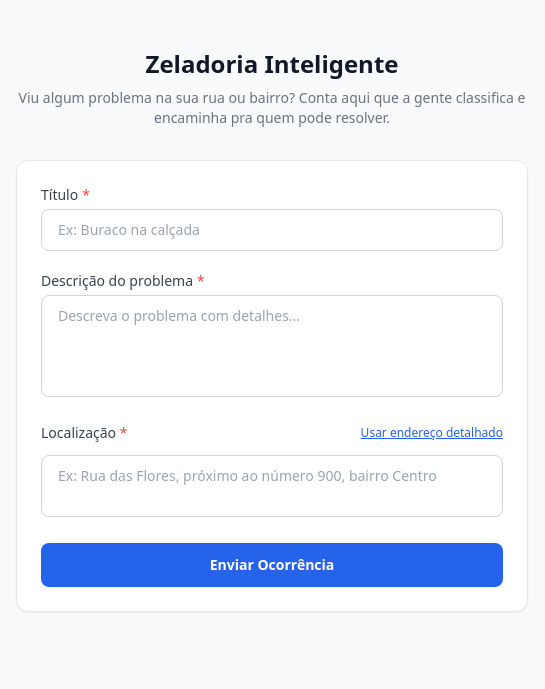
Scenario: ReportPage › given the citizen opens the form › should display all required fields ready to be filled
Step 1. Click the button "Usar endereço detalhado" → (432, 433), box x1=361 y1=425 x2=503 y2=441
(page scrolled)
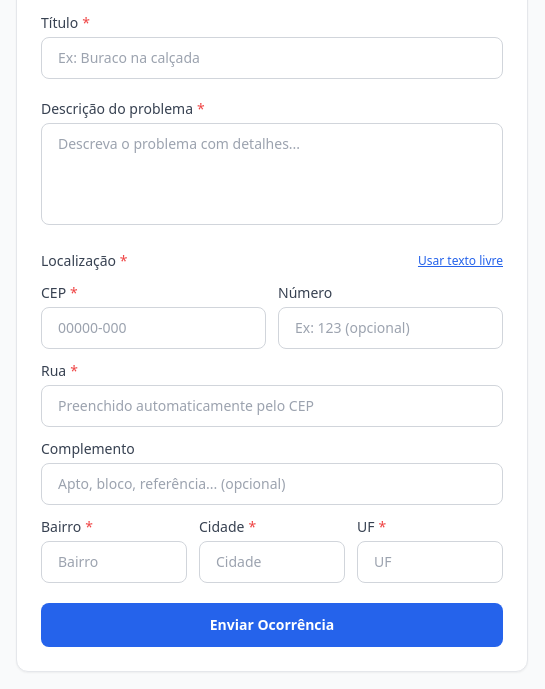
expect the field labelled "Título*" is shown: met, box x1=41 y1=37 x2=503 y2=79
expect the field labelled "CEP*" is shown: met, box x1=41 y1=307 x2=266 y2=349
expect the field labelled "Número" is shown: met, box x1=278 y1=307 x2=503 y2=349
